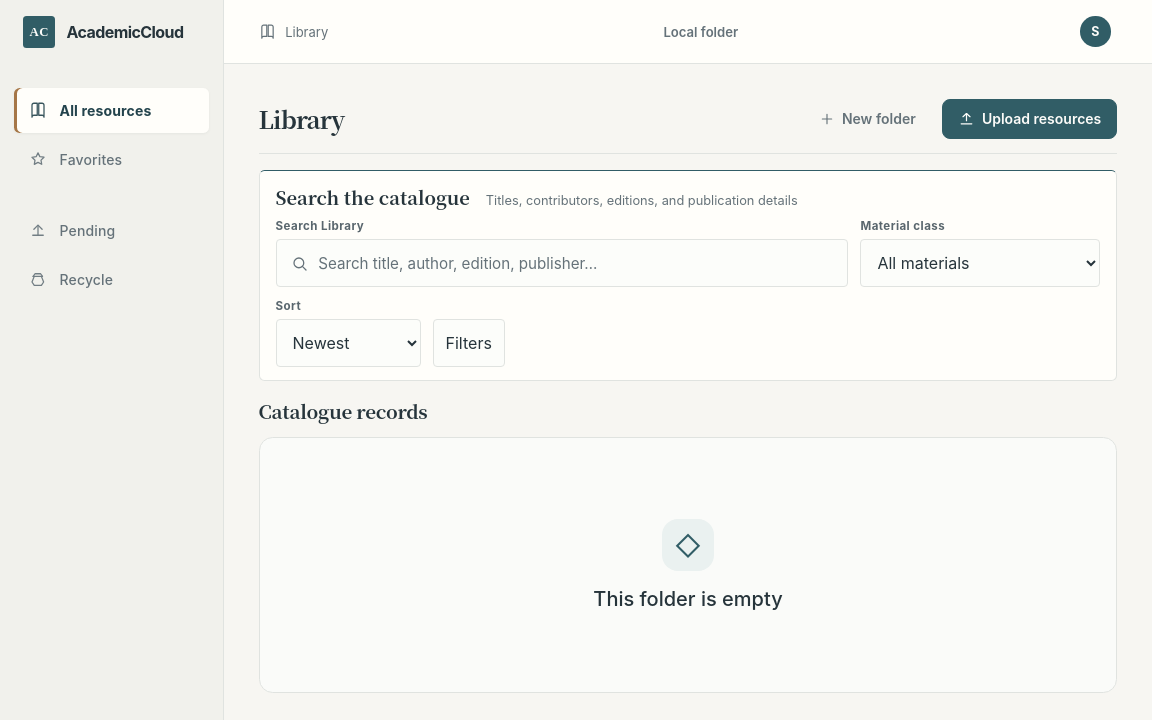
Test case: App › keeps usable invitations prominent and collapses durable invitation history with a count
Expected: the heading "Library" is shown, x1=258 y1=103 x2=344 y2=134
Step 1. Click the button named "Account menu" → [1095, 32], box x1=1073 y1=10 x2=1117 y2=54
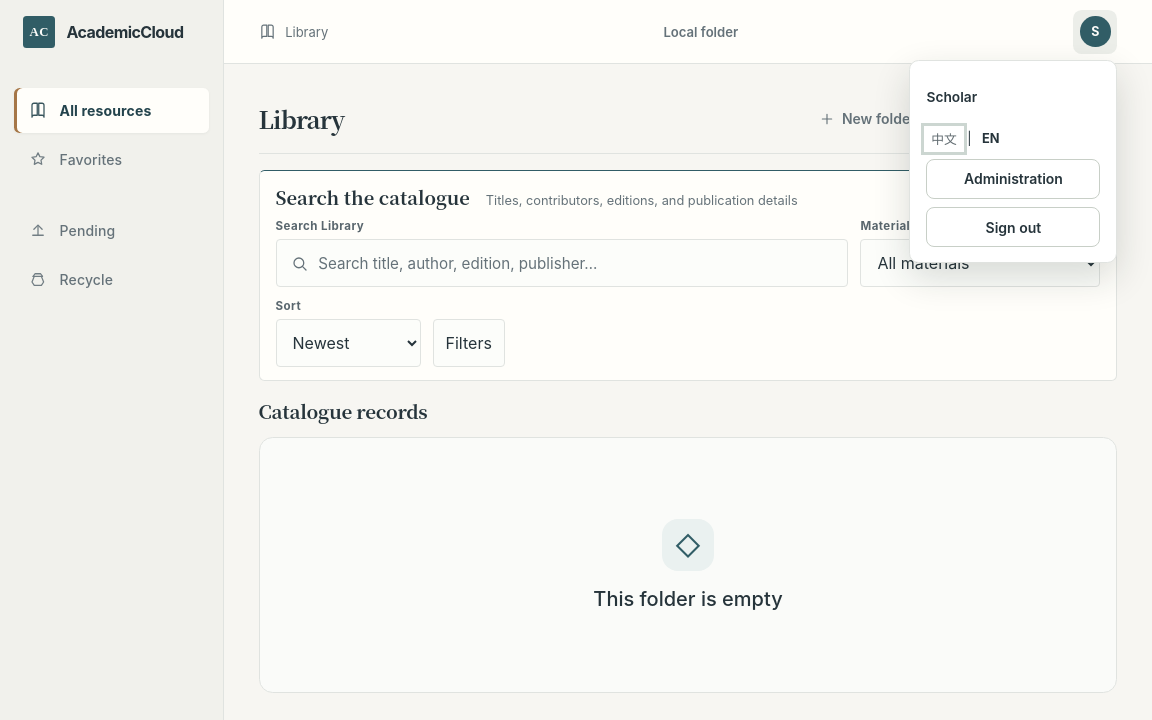
Step 2. Click the menu item "Administration" → [1013, 179], box x1=926 y1=159 x2=1100 y2=199
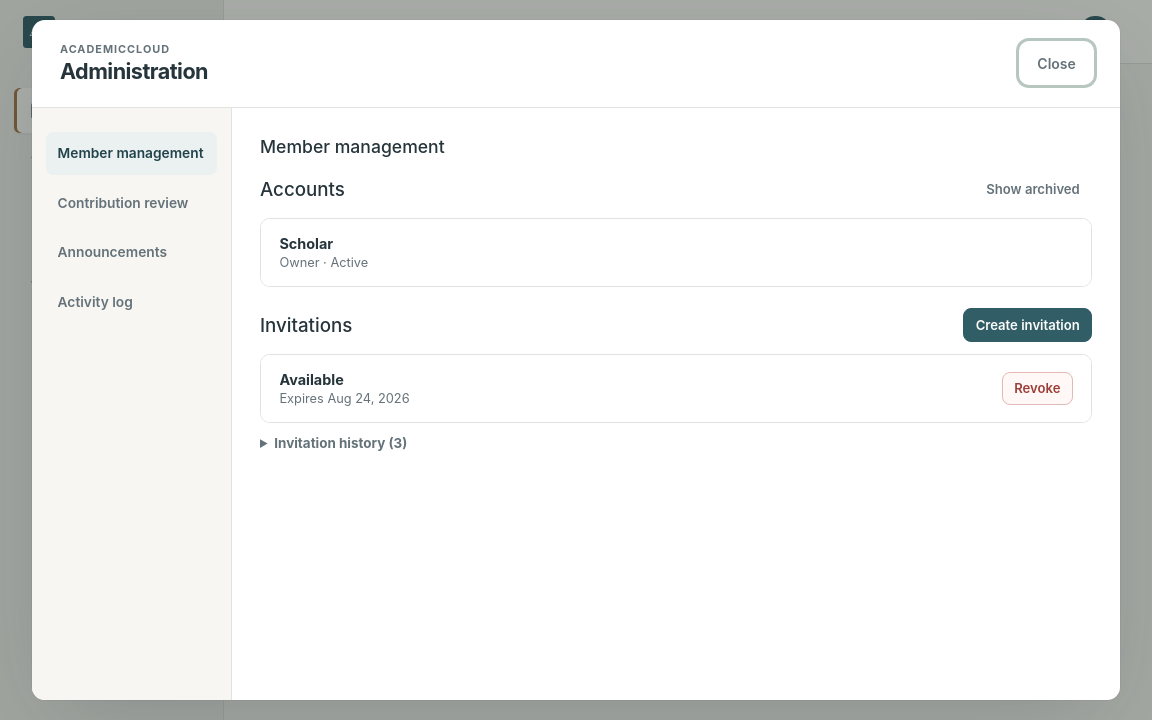
Expected: the text "Available" is shown, x1=279 y1=371 x2=344 y2=388
Expected: the number of buttons "Revoke" is 1, x1=1002 y1=372 x2=1073 y2=405
Step 3. Click the heading "Invitation history (3)" → [341, 443], box x1=274 y1=435 x2=407 y2=451
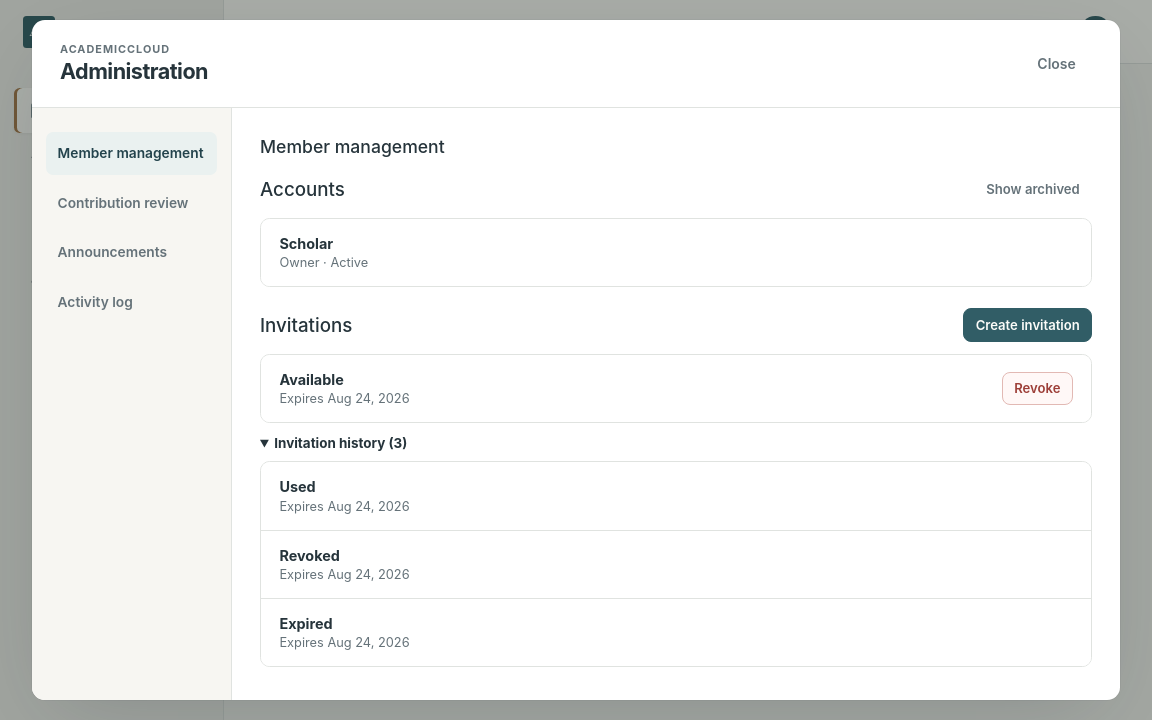
Expected: the text "Used" is shown, x1=279 y1=478 x2=316 y2=495
Expected: the text "Revoked" is shown, x1=279 y1=547 x2=340 y2=564
Expected: the text "Expired" is shown, x1=279 y1=615 x2=333 y2=632
